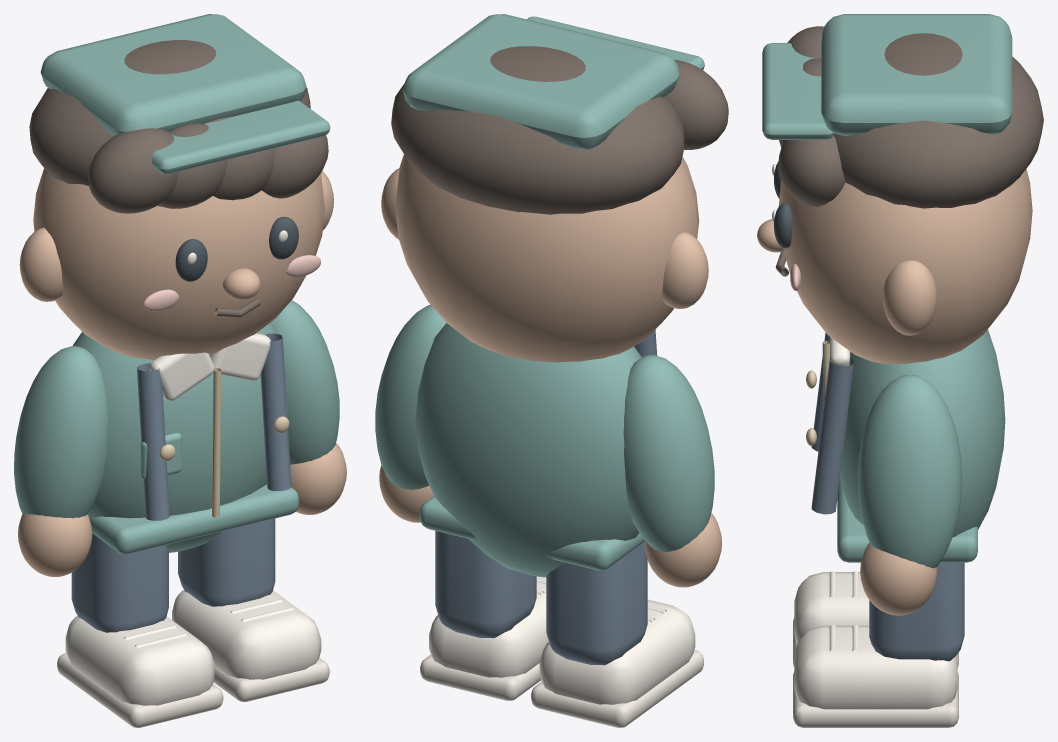
Rendered from mover.fbx.
The picture shows the model from 3 angles, left to right: view 1: azimuth 30°, elevation 25°; view 2: azimuth 150°, elevation 25°; view 3: azimuth 270°, elevation 25°; orthographic projection. The views are drawn at different scales.
Visible parts, largest first — view 1: Body.004, WalkLeg_L.004, WalkLeg_R.004, WalkArm_L.004, WalkArm_R.004; view 2: Body.004, WalkLeg_L.004, WalkArm_L.004, WalkLeg_R.004, WalkArm_R.004; view 3: Body.004, WalkLeg_R.004, WalkArm_R.004, WalkLeg_L.004.
Part boxes in pixels (left/top/right/bottom): Body.004: left=19, top=14, right=333, bottom=554; WalkLeg_L.004: left=57, top=533, right=223, bottom=727; WalkLeg_R.004: left=172, top=518, right=329, bottom=701; WalkArm_L.004: left=14, top=346, right=107, bottom=576; WalkArm_R.004: left=270, top=300, right=346, bottom=514; Body.004: left=381, top=14, right=728, bottom=577; WalkLeg_L.004: left=531, top=542, right=703, bottom=727; WalkArm_L.004: left=623, top=355, right=721, bottom=587; WalkLeg_R.004: left=420, top=531, right=548, bottom=700; WalkArm_R.004: left=375, top=304, right=446, bottom=522; Body.004: left=757, top=14, right=1043, bottom=562; WalkLeg_R.004: left=793, top=562, right=964, bottom=727; WalkArm_R.004: left=857, top=375, right=962, bottom=615; WalkLeg_L.004: left=793, top=571, right=958, bottom=667.
Size of the model in its own units: 84 by 153 by 63.2.
